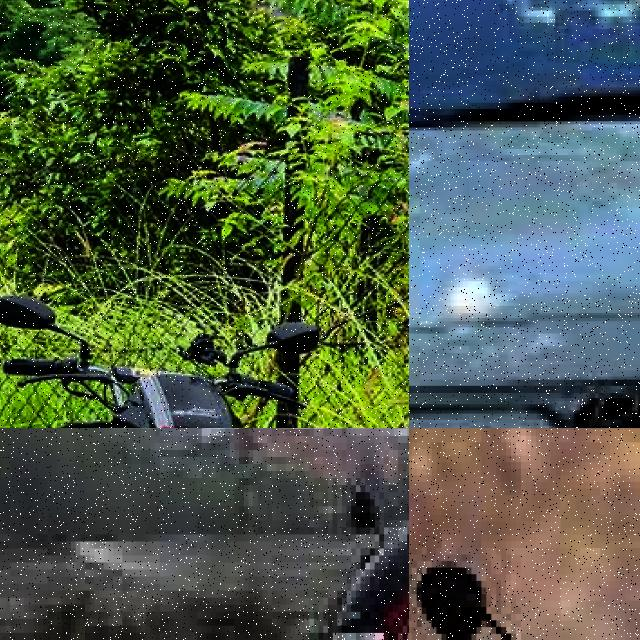bike: (234, 499, 409, 640), (0, 358, 263, 428), (281, 378, 409, 428)
car: (409, 0, 640, 428)
